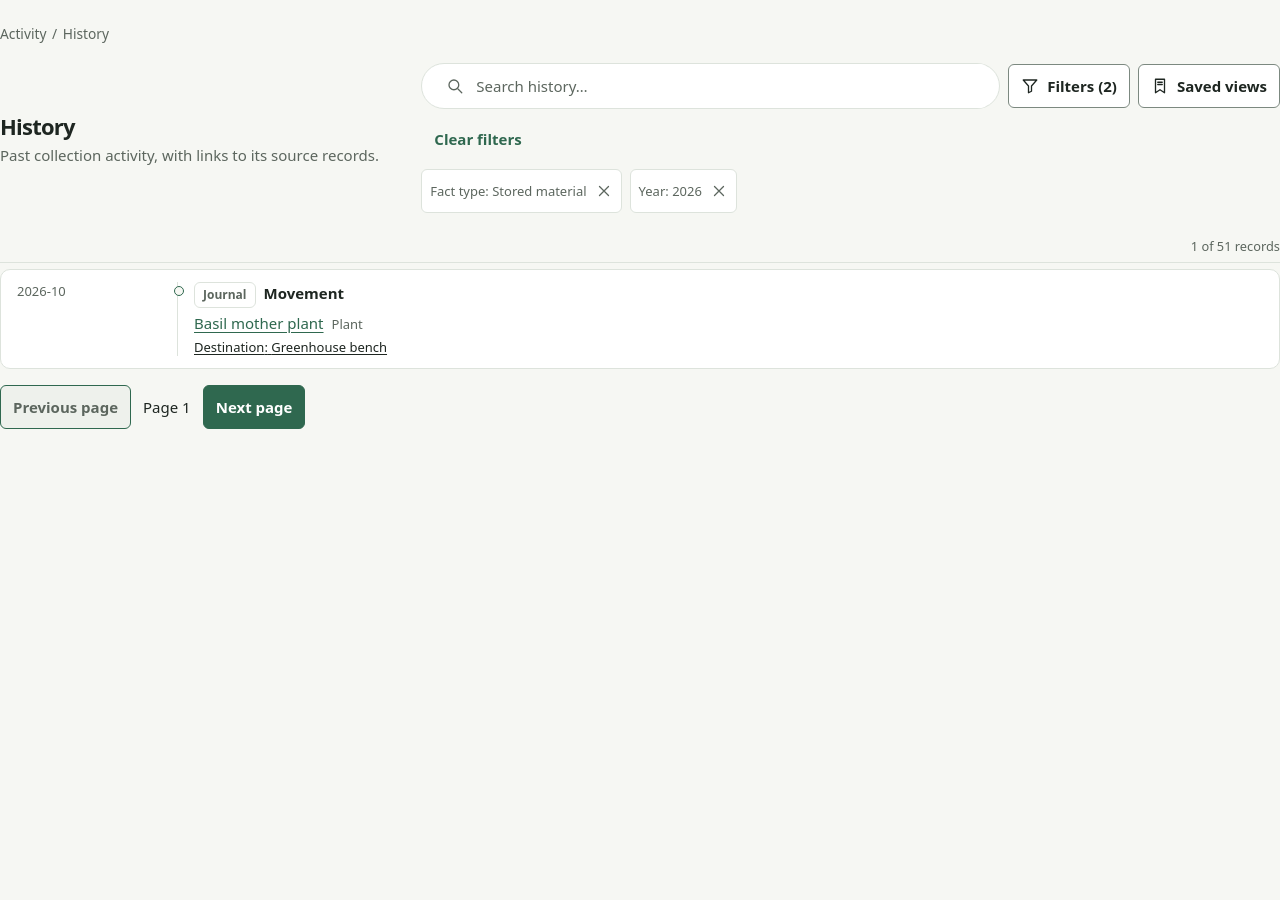
it: refresh restores filters, bounded count, previous page and year validation
Expected: the heading "Movement" is shown, [264,282,344,304]
Expected: the text "1 of 51 records" is shown, [0,237,1279,263]
Click the button "Next page" at (254, 407), box [203,385,306,429]
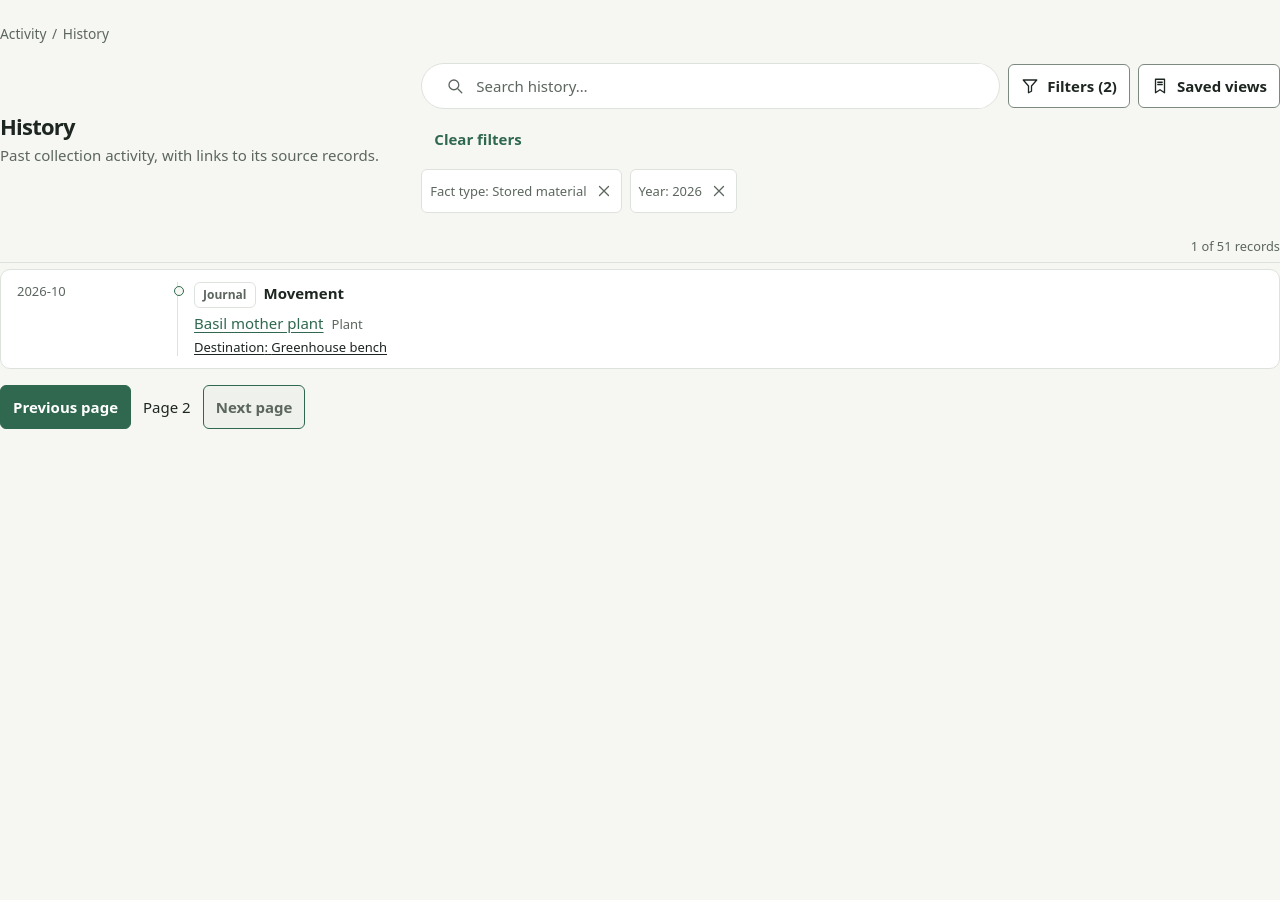
Expected: the text "Page 2" is shown, [143,396,191,418]
Click the button "Previous page" at (66, 407), box [0,385,131,429]
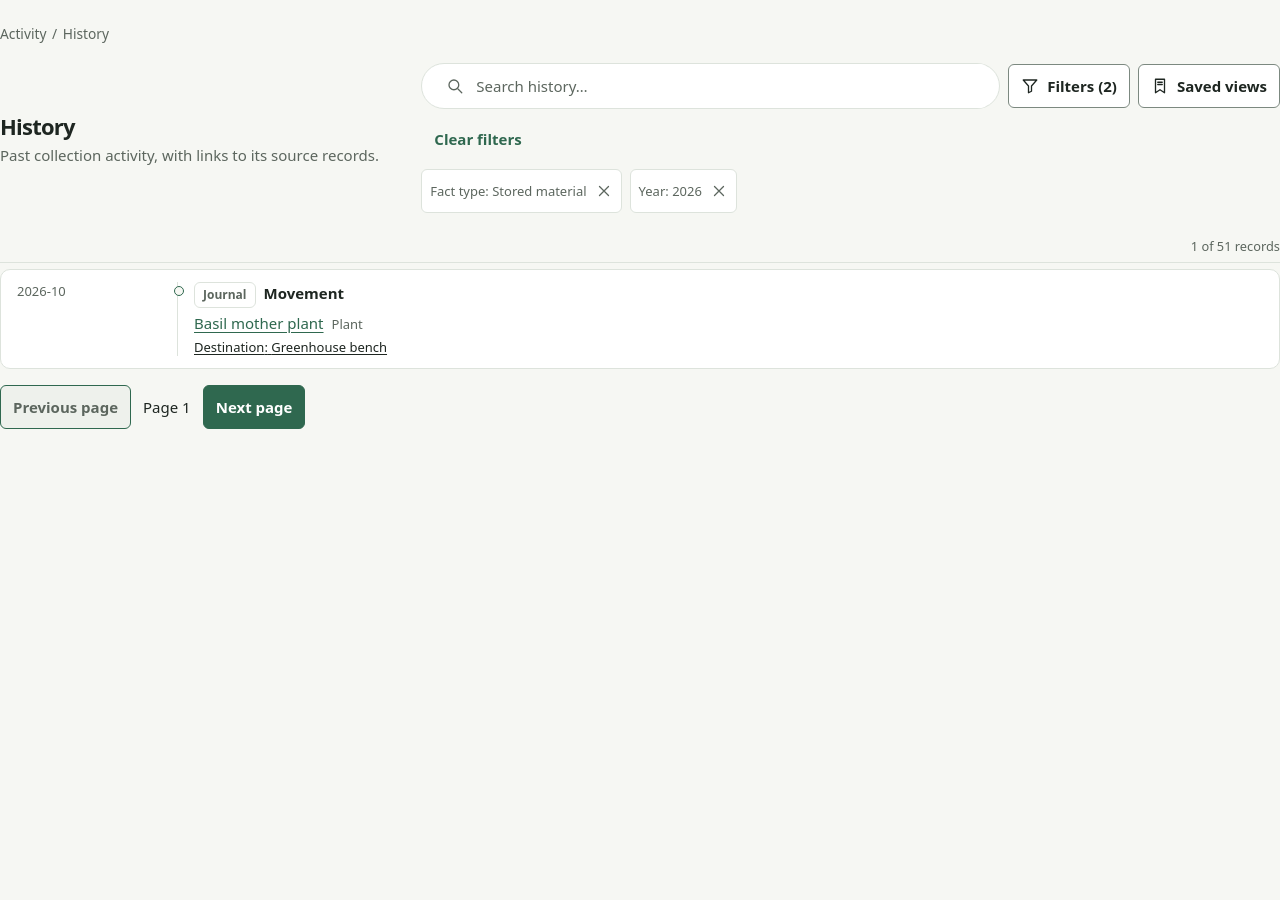
Expected: the text "Page 1" is shown, [143,396,191,418]
Click the button "Filters (2)" at (1069, 86), box [1008,64,1130,108]
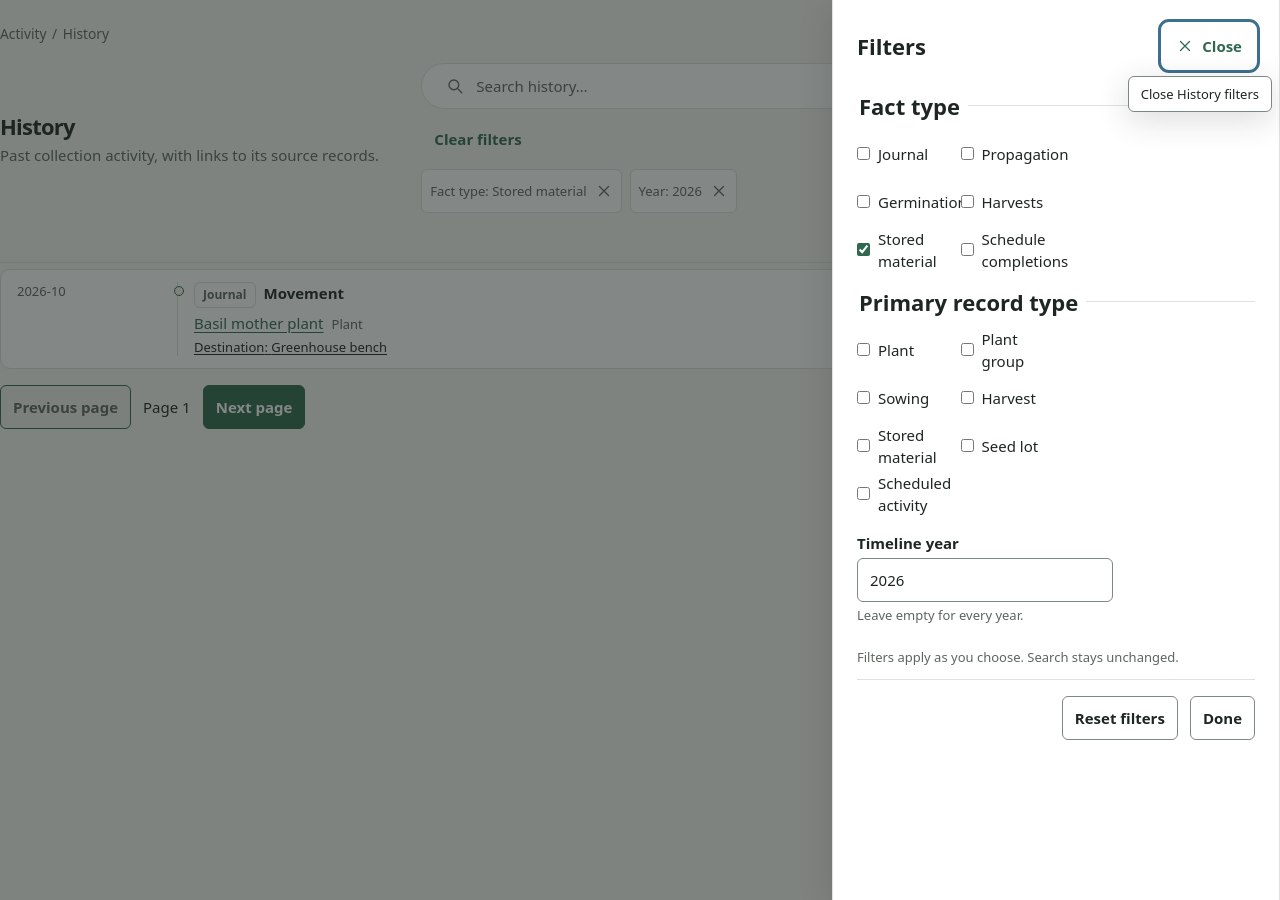
Expected: the checkbox labelled "Stored material" in the row of "Schedule completions" is checked, [857,244,870,256]
Replace the text in the field labelled "Timeline year" with "0" at (985, 580), box [857,558,1113,602]
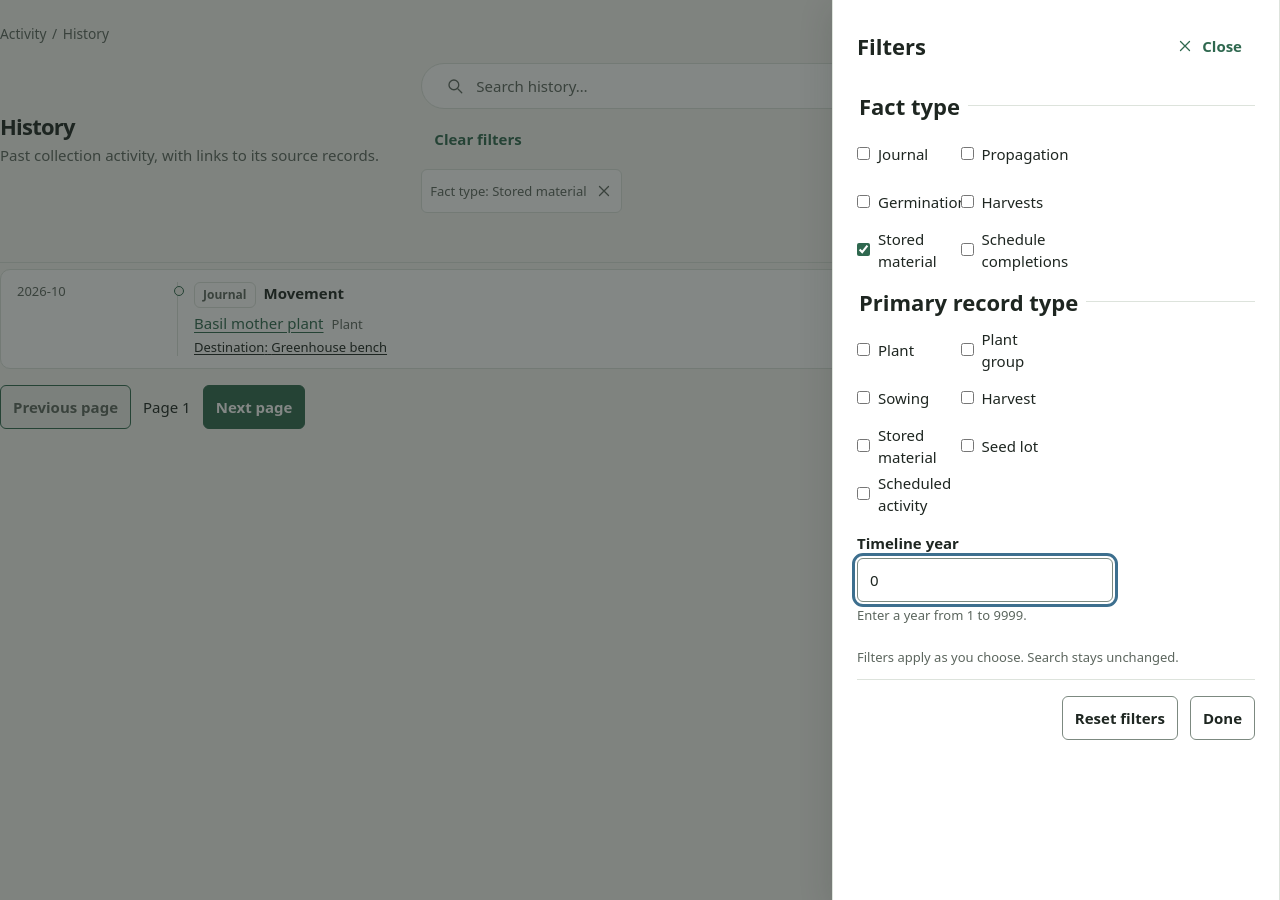
Expected: the text "Enter a year from 1 to 9999." is shown, [857,606,1027,624]
Clear the field labelled "Timeline year" at (985, 580), box [857,558,1113,602]
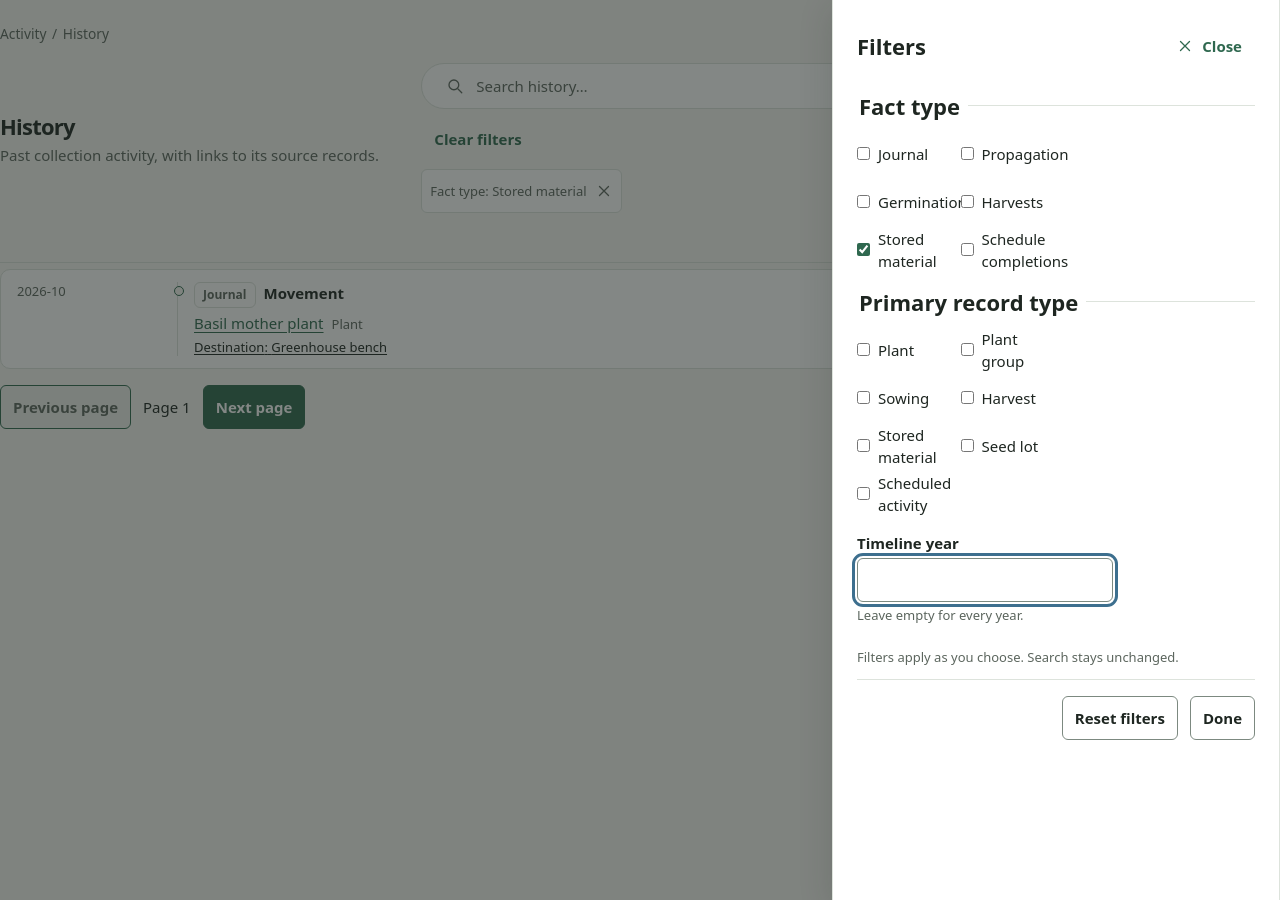
Click the button "Reset filters" at (1120, 718), box [1062,696,1178,740]
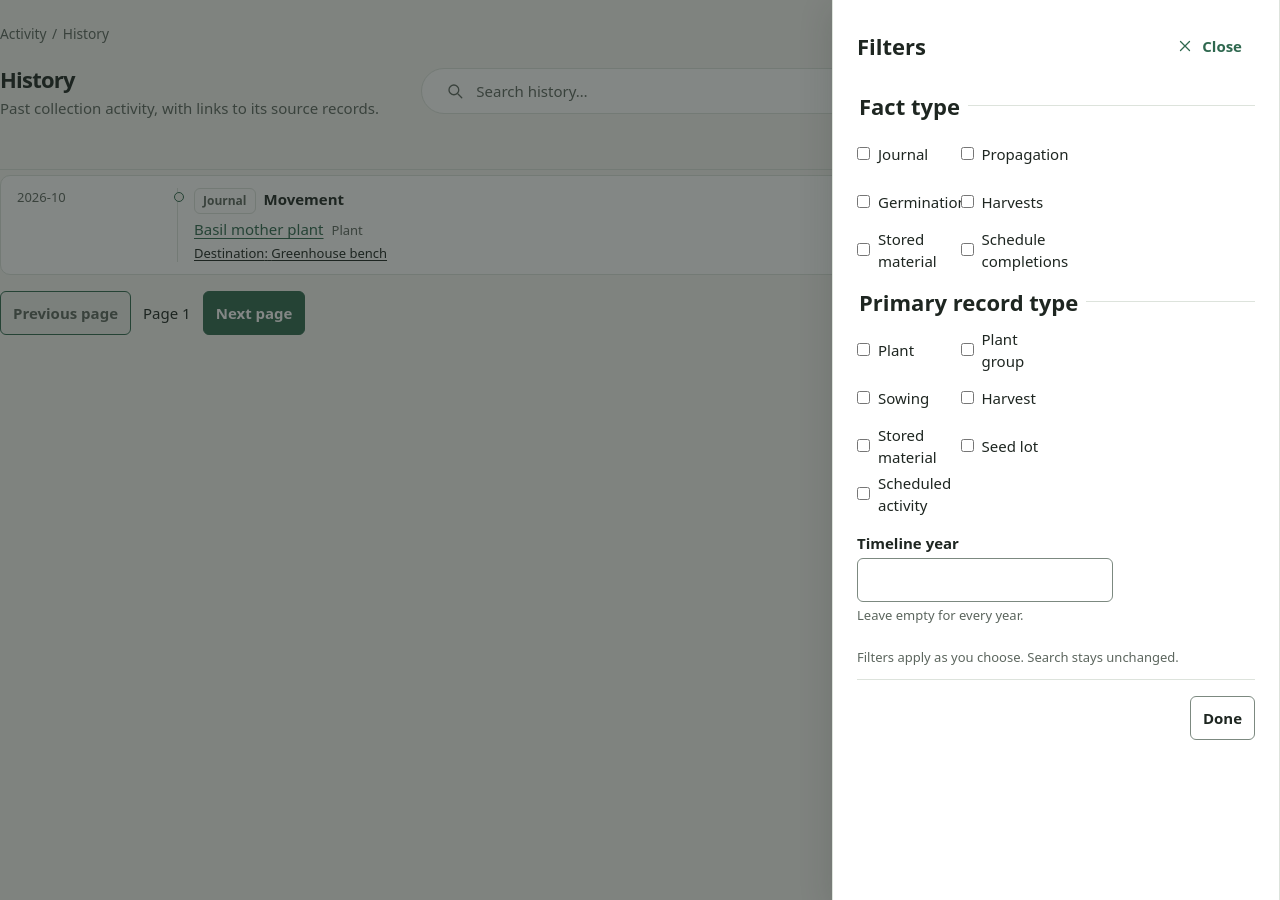
Expected: the checkbox labelled "Stored material" in the row of "Schedule completions" is not checked, [857,244,870,256]
